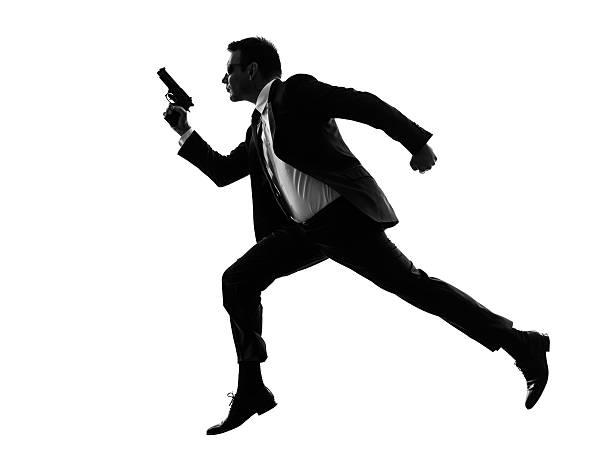weapon: (150, 63, 194, 119)
